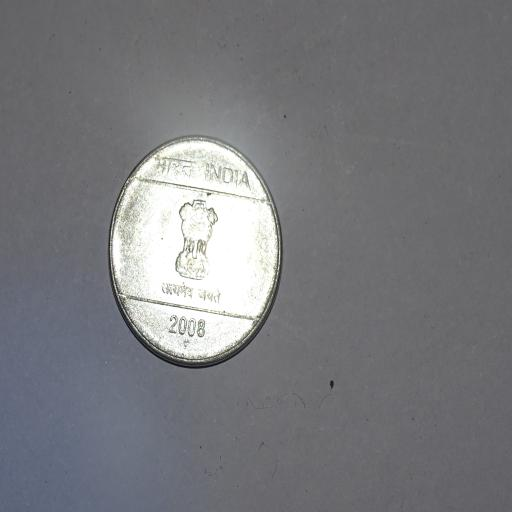rupee1: (110, 136, 287, 366)
